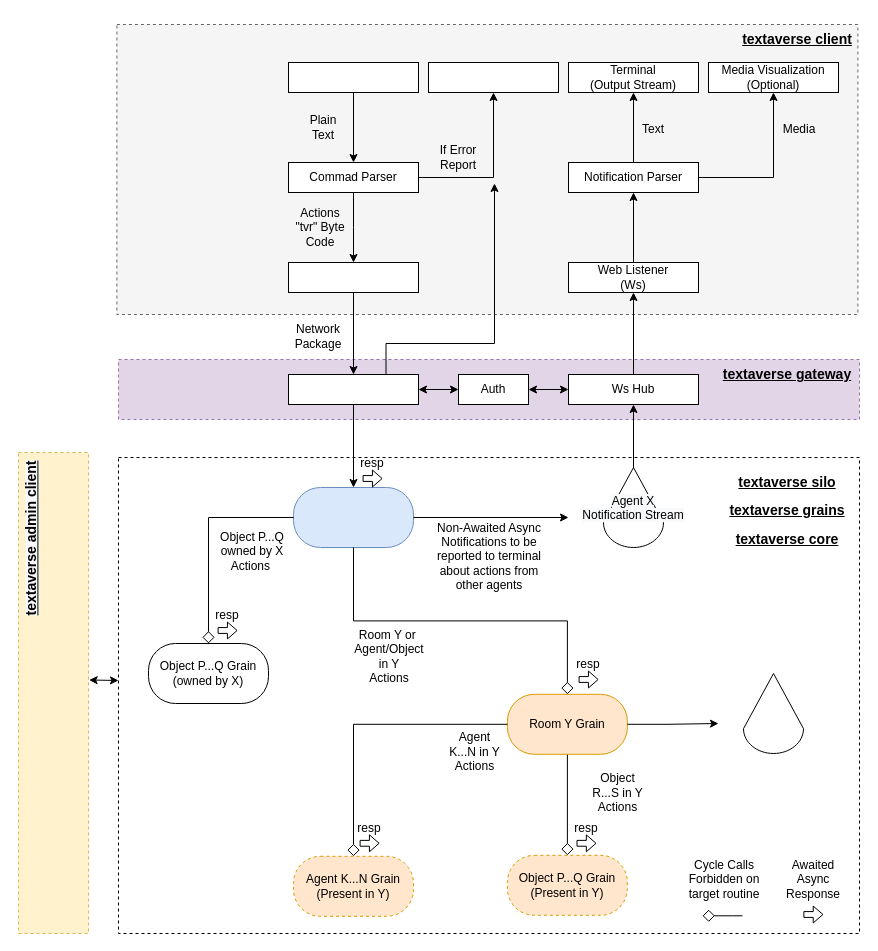
This 878x951 diagram has some shape labels left out. Each missing label, with the box of its shape:
Agent X Grain (incl. trv interpreter): (292, 486, 414, 548)
Room Y Notification Stream (agents can listen): (742, 672, 804, 754)
Terminal (Input): (288, 62, 418, 92)
Terminal (Sync Output): (428, 62, 558, 92)
Web Client (Http or Ws): (288, 262, 418, 292)
Web Server (Http or Ws): (288, 374, 418, 404)
